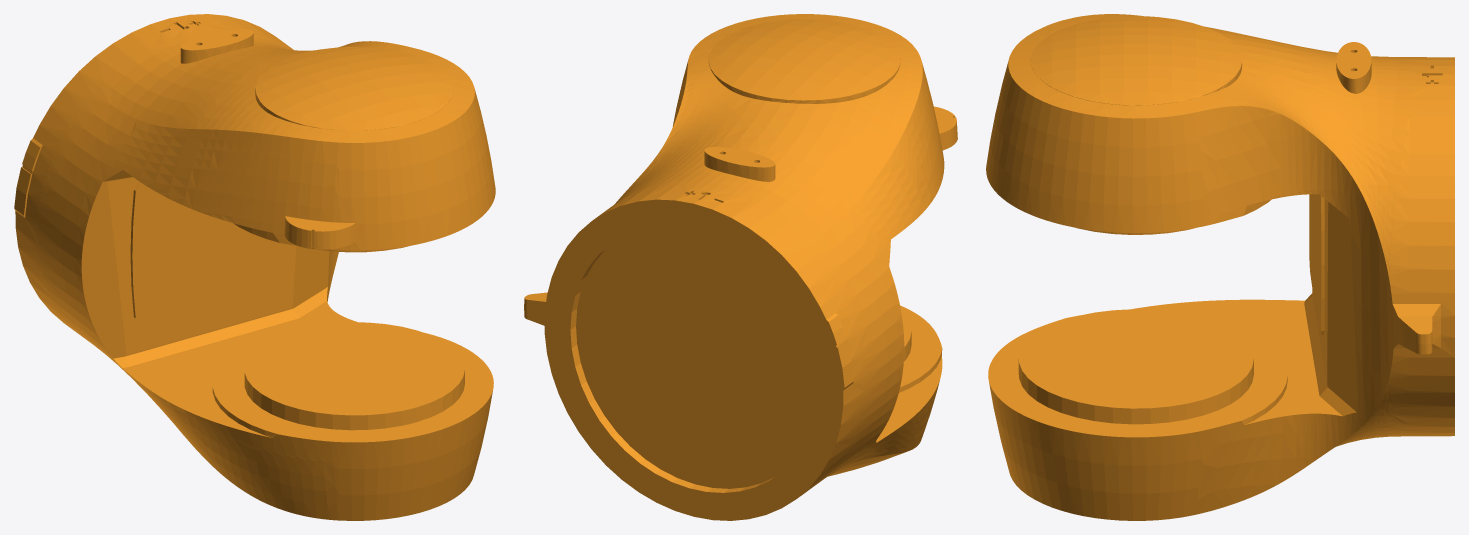
The model's file is KukaAgilusKRLink1.dae.
The picture shows the model from 3 angles, left to right: view 1: azimuth 30°, elevation 25°; view 2: azimuth 150°, elevation 25°; view 3: azimuth 270°, elevation 25°; orthographic projection. The views are drawn at different scales.
Visible parts, largest first — view 1: KUKAKRLink1; view 2: KUKAKRLink1; view 3: KUKAKRLink1.
Part boxes in pixels (<box>): KUKAKRLink1: <box>14,14,495,520</box>; KUKAKRLink1: <box>524,14,957,520</box>; KUKAKRLink1: <box>986,14,1454,520</box>.
Size of the model in its own units: 0.2428 by 0.2693 by 0.2757.
